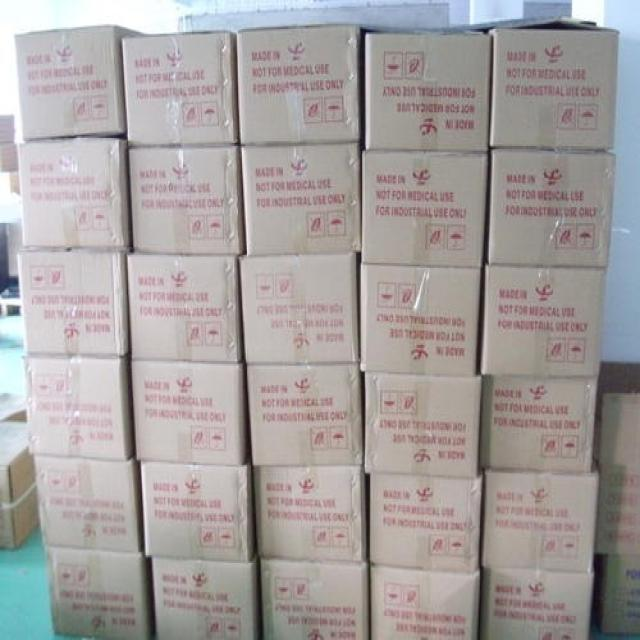box: (458, 14, 621, 159), (364, 22, 494, 152), (236, 24, 365, 146), (486, 151, 617, 269), (15, 26, 146, 144), (358, 261, 484, 379), (475, 266, 605, 379), (361, 152, 489, 265), (239, 253, 361, 366), (483, 459, 600, 573), (242, 141, 361, 252), (15, 244, 132, 356), (128, 144, 246, 255), (123, 34, 237, 148), (127, 257, 244, 366), (129, 359, 250, 462), (19, 136, 129, 249), (365, 372, 484, 475), (250, 465, 370, 566), (137, 462, 259, 561), (365, 472, 484, 573), (480, 374, 598, 475), (246, 366, 366, 465), (29, 456, 145, 557), (26, 353, 134, 460), (45, 549, 155, 638), (260, 558, 374, 640), (150, 557, 262, 640), (371, 563, 480, 640), (480, 571, 595, 638), (598, 391, 640, 555), (0, 422, 38, 552), (590, 555, 640, 635)
